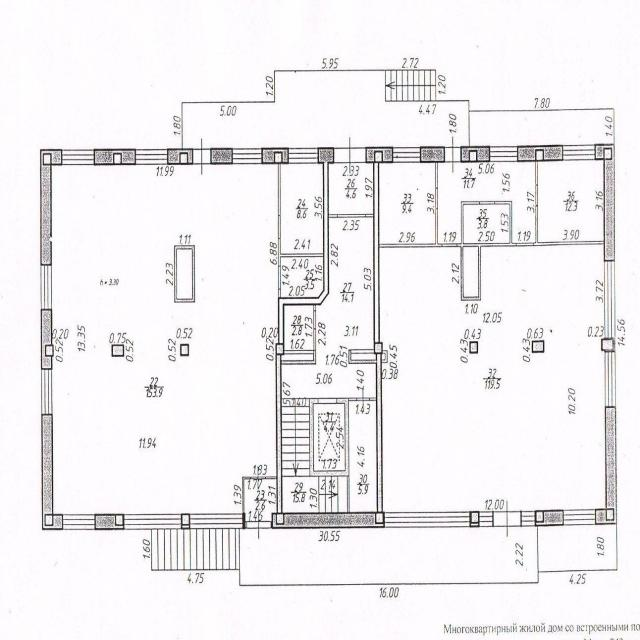Corridors: (240, 528, 537, 586), (282, 218, 376, 397), (182, 101, 469, 148), (538, 525, 616, 572), (350, 402, 376, 511), (329, 165, 373, 213), (464, 205, 510, 243), (281, 258, 323, 296), (245, 480, 276, 521), (285, 305, 313, 349)
Doors: (334, 136, 366, 175), (493, 499, 521, 538), (246, 509, 272, 540), (193, 137, 211, 177), (445, 137, 461, 174), (356, 386, 370, 409), (318, 397, 337, 404), (337, 214, 366, 218), (277, 215, 281, 239), (480, 200, 495, 205), (443, 243, 457, 248), (278, 266, 281, 289), (536, 185, 539, 207), (251, 476, 266, 480), (517, 243, 533, 246), (435, 188, 437, 209), (314, 310, 316, 329)
LBwalls: (278, 163, 329, 344), (41, 416, 63, 532), (40, 149, 62, 264), (595, 143, 616, 261), (596, 407, 617, 525), (272, 512, 384, 528), (373, 164, 380, 343), (376, 353, 382, 513), (276, 355, 282, 513), (40, 309, 54, 370), (518, 145, 562, 162), (94, 148, 135, 166), (95, 513, 124, 531), (535, 510, 564, 527), (365, 147, 393, 163), (461, 146, 489, 162), (167, 148, 193, 165), (421, 146, 445, 163), (262, 148, 289, 163), (210, 148, 232, 165), (318, 147, 334, 164), (532, 340, 545, 354), (601, 338, 615, 351), (470, 510, 480, 528), (111, 344, 124, 357), (181, 513, 191, 529), (275, 343, 285, 356), (180, 343, 189, 356), (469, 341, 478, 353), (374, 342, 383, 354), (242, 513, 246, 529)
Offices: (52, 164, 278, 514), (380, 246, 605, 510), (438, 162, 536, 243), (538, 161, 603, 242), (380, 164, 434, 243), (282, 164, 323, 252)
Stairs: (281, 398, 347, 513), (275, 71, 437, 102), (150, 529, 240, 571)
Walls: (457, 200, 517, 300), (309, 398, 356, 513), (380, 163, 435, 243), (533, 207, 604, 246), (380, 209, 442, 248), (281, 329, 316, 365), (278, 239, 324, 266), (174, 245, 195, 303), (349, 350, 376, 364), (242, 476, 252, 512), (278, 164, 280, 216), (435, 162, 438, 189), (535, 161, 538, 184), (382, 350, 387, 363), (266, 476, 276, 480), (366, 214, 374, 218), (328, 214, 337, 217), (278, 289, 281, 297), (314, 305, 316, 312)
Windows: (384, 511, 470, 528), (124, 514, 181, 529), (604, 261, 615, 338), (190, 513, 242, 529), (604, 352, 616, 406), (61, 150, 94, 166), (135, 149, 168, 165), (562, 145, 595, 161), (40, 265, 52, 308), (63, 514, 95, 530), (41, 369, 52, 415), (232, 148, 262, 164), (563, 510, 595, 525), (289, 147, 318, 163), (490, 146, 518, 162), (393, 147, 421, 162), (521, 510, 535, 527), (479, 511, 493, 528)
